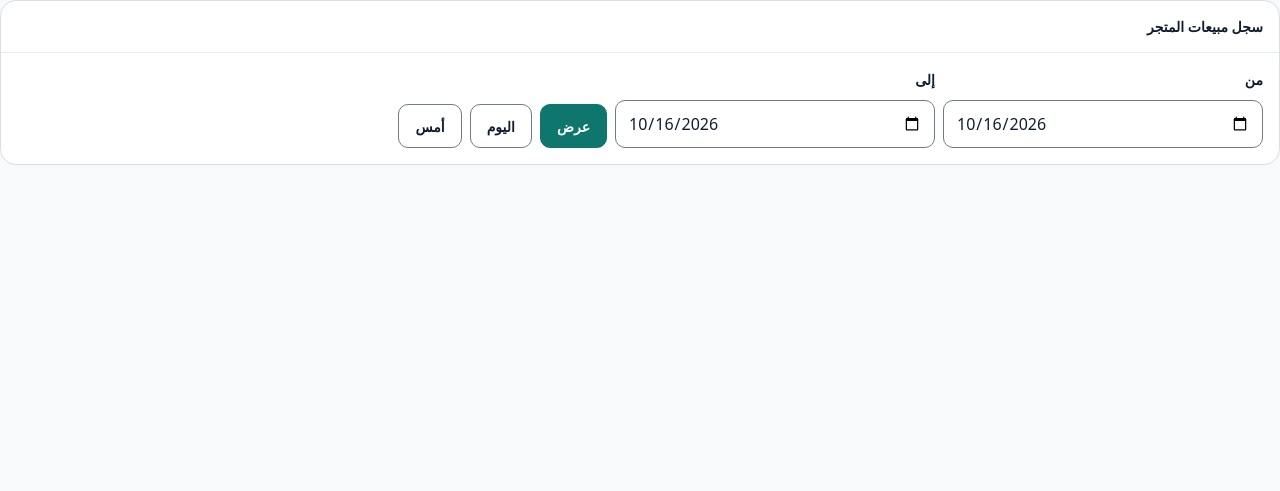
RT-542 SalesHistory — detail and reprint › opens an unsent local sale through its own record
Click the button "عرض" at [574, 126], box [540,104,607,148]
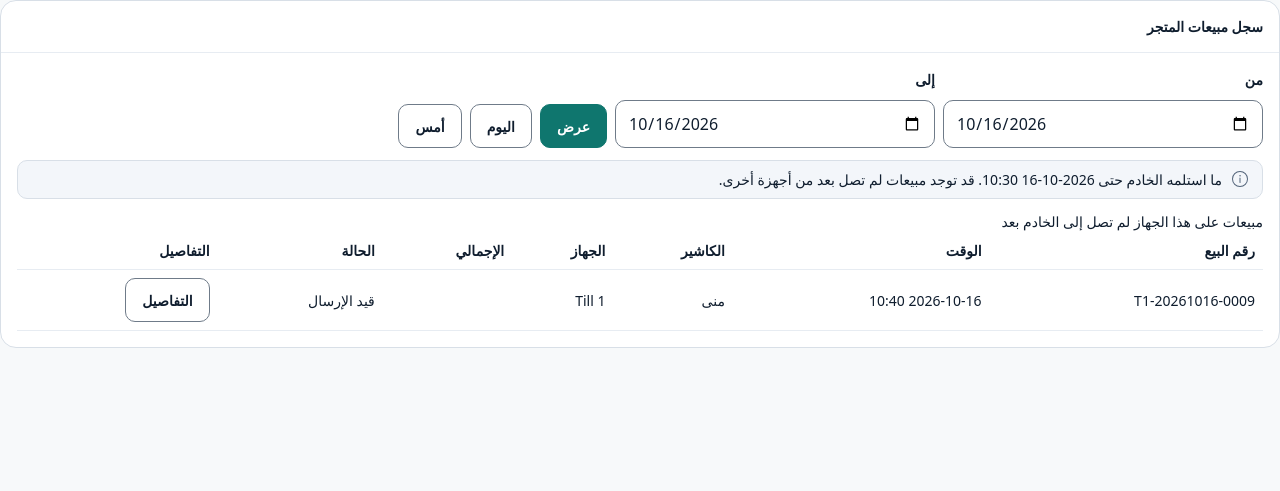
Click the button "التفاصيل" at [167, 300], box [125,278,210,322]
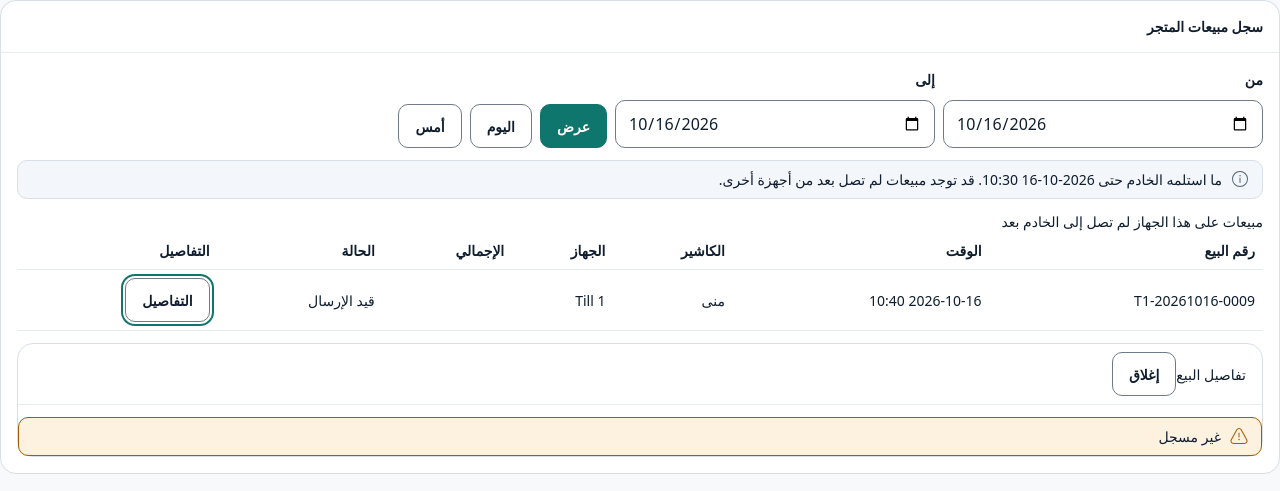
expect the element with test id "history-local-detail" is shown: met, box [17,343,1263,457]
